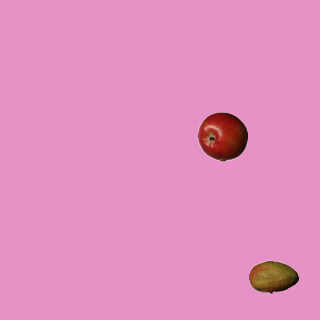Apple Braeburn: (197, 111, 247, 161)
Papaya: (248, 252, 298, 302)
